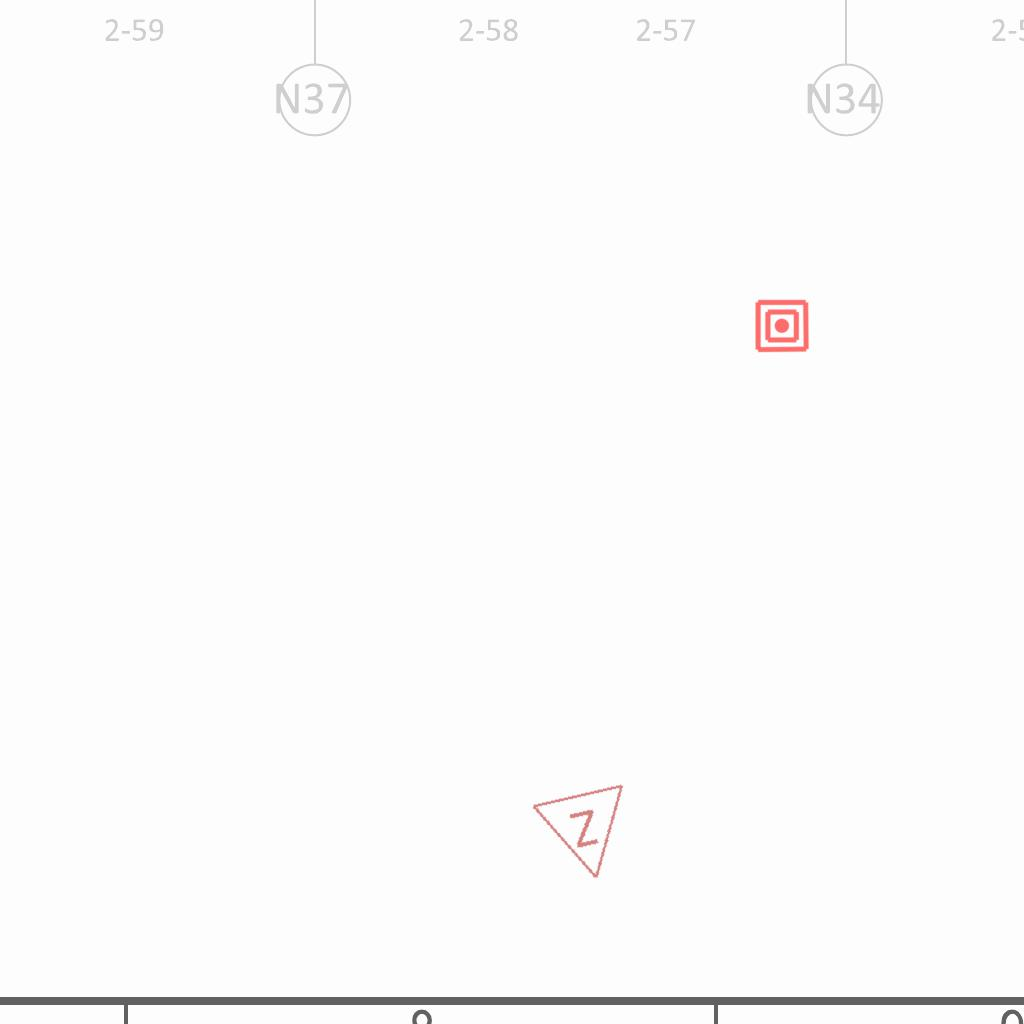NAM-Nichtautomatischer_Melder: (754, 298, 810, 354)
Zimmersignalleuchte: (529, 776, 647, 896)
